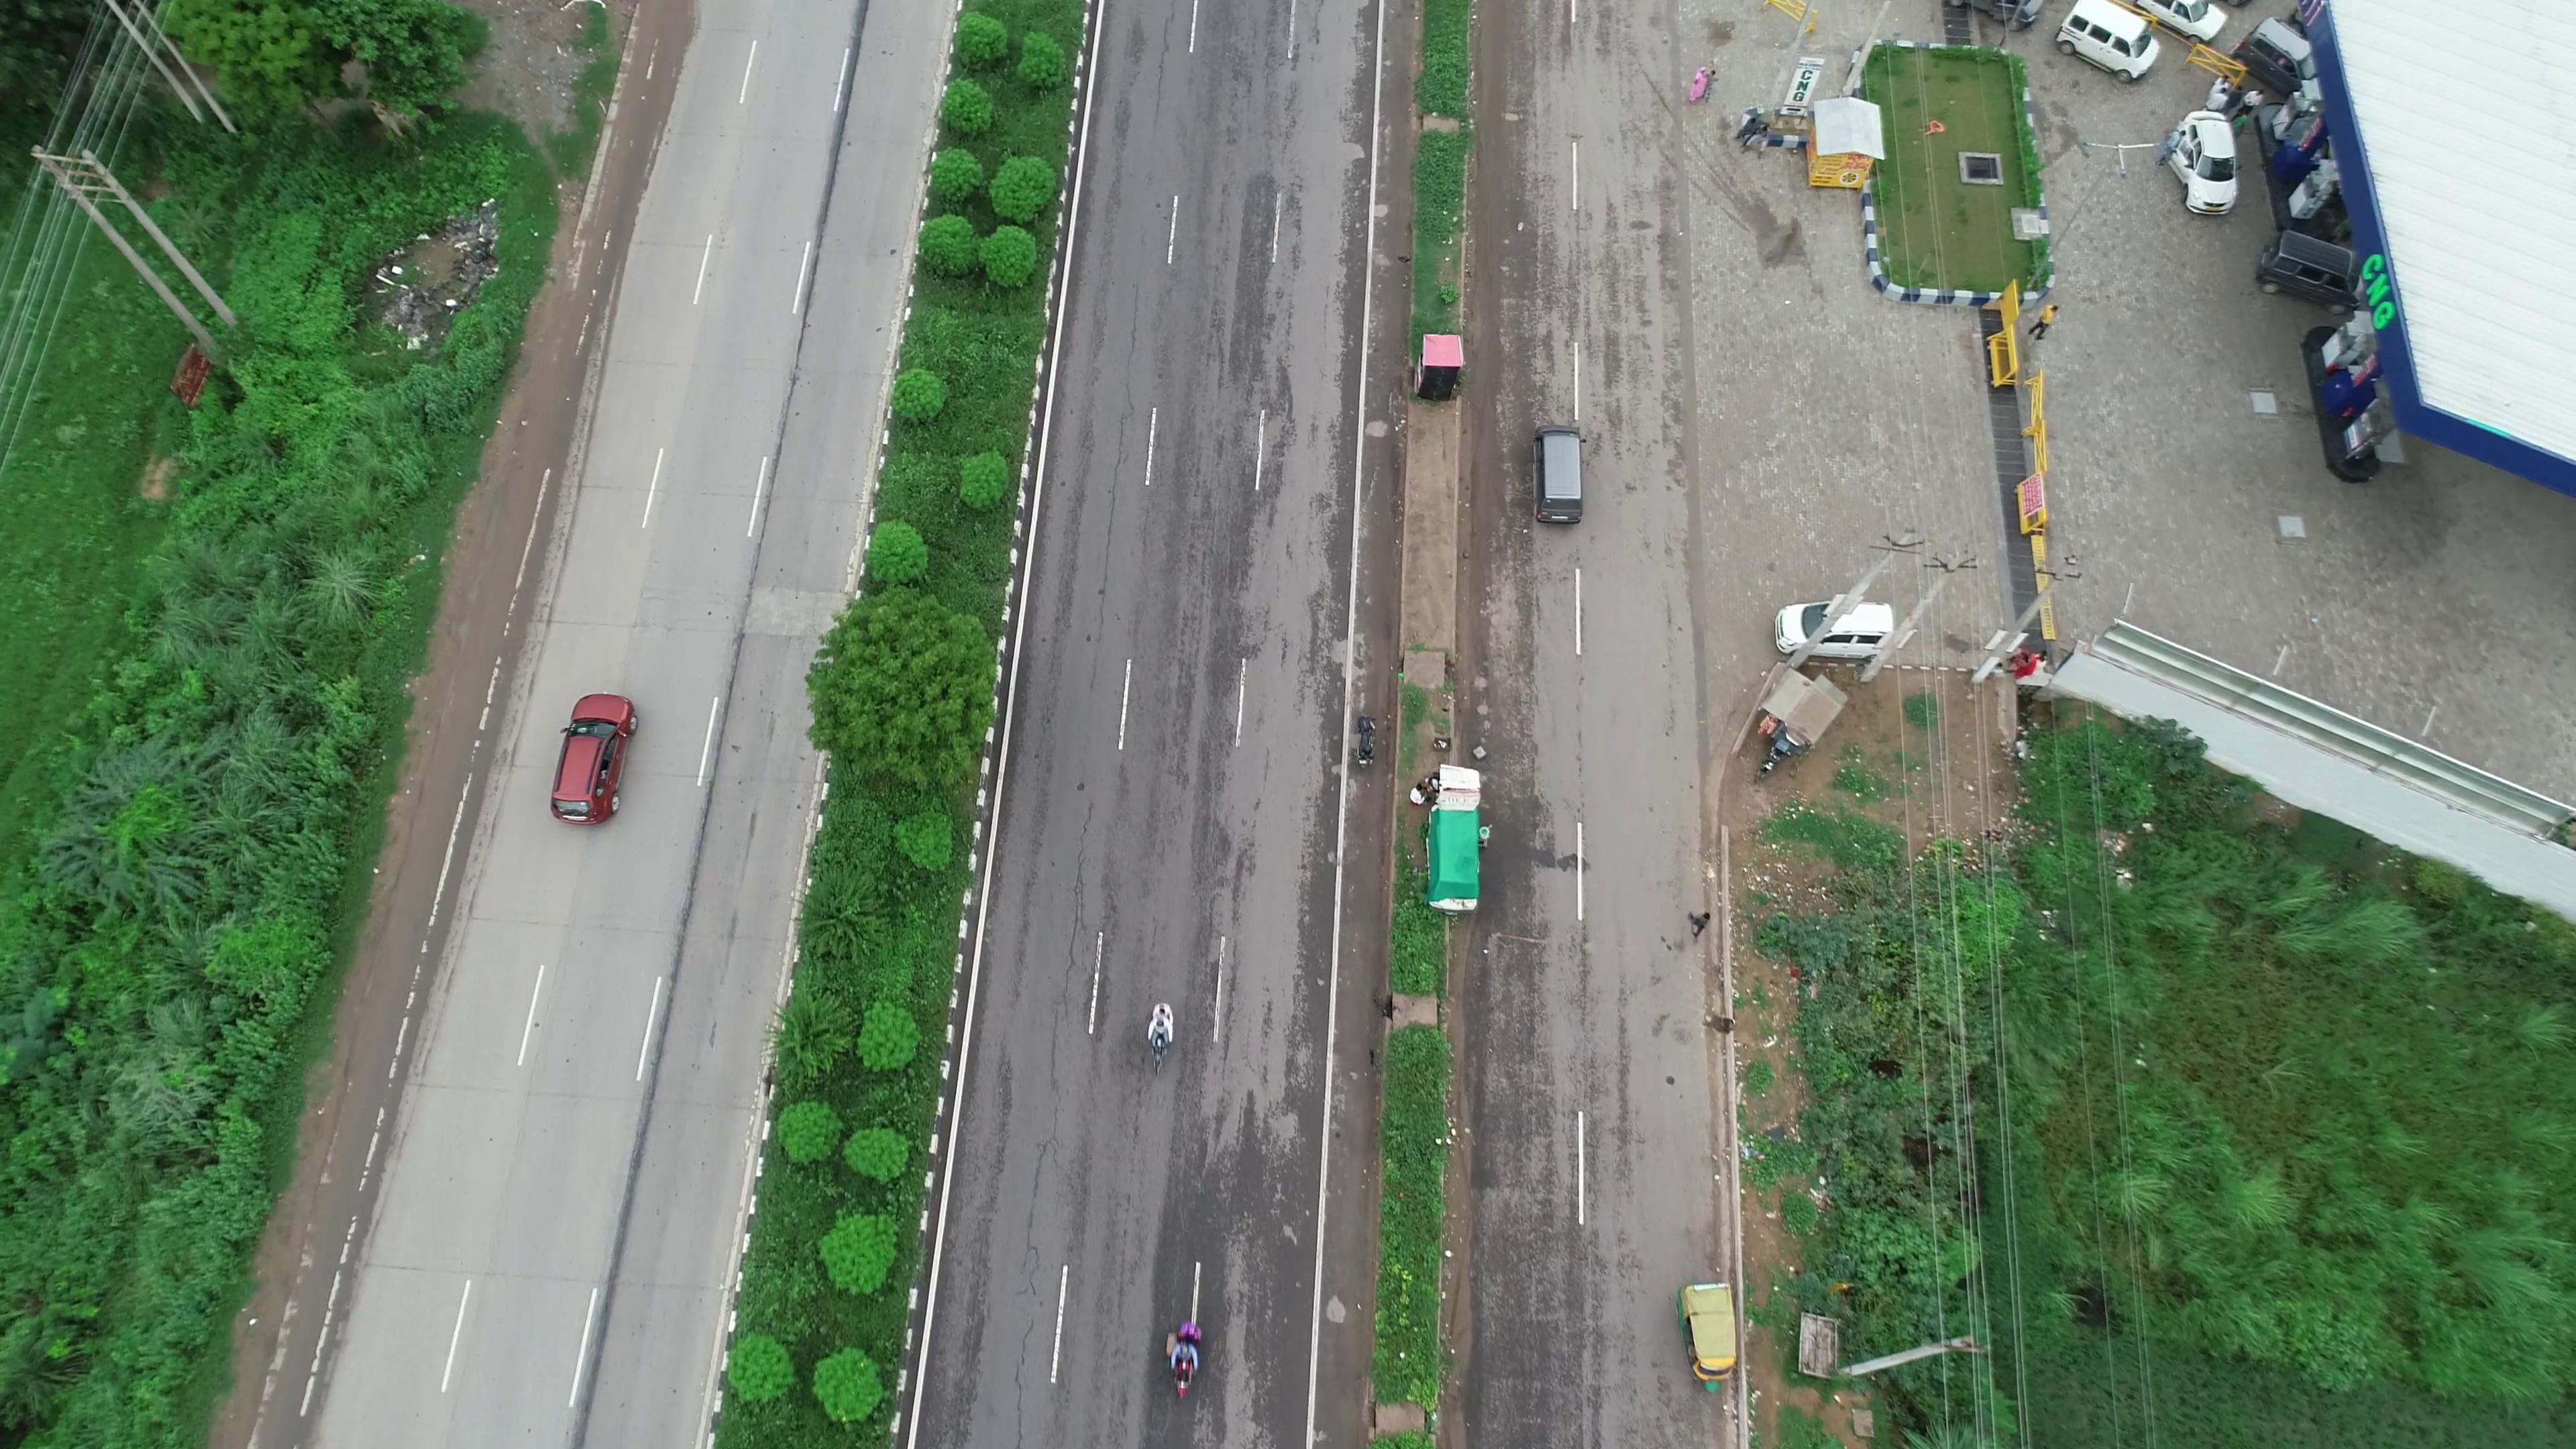Longitudinal_cracks: (1079, 280, 1146, 686), (1037, 794, 1106, 1125), (998, 1146, 1056, 1440)
